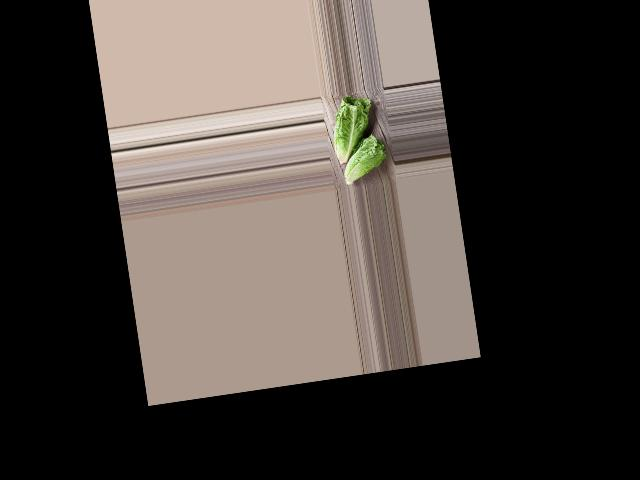lettuce: (336, 131, 394, 188)
